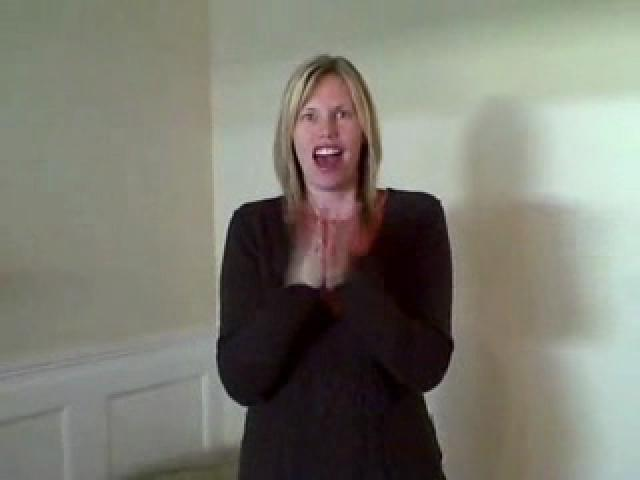F: (197, 47, 465, 468)
